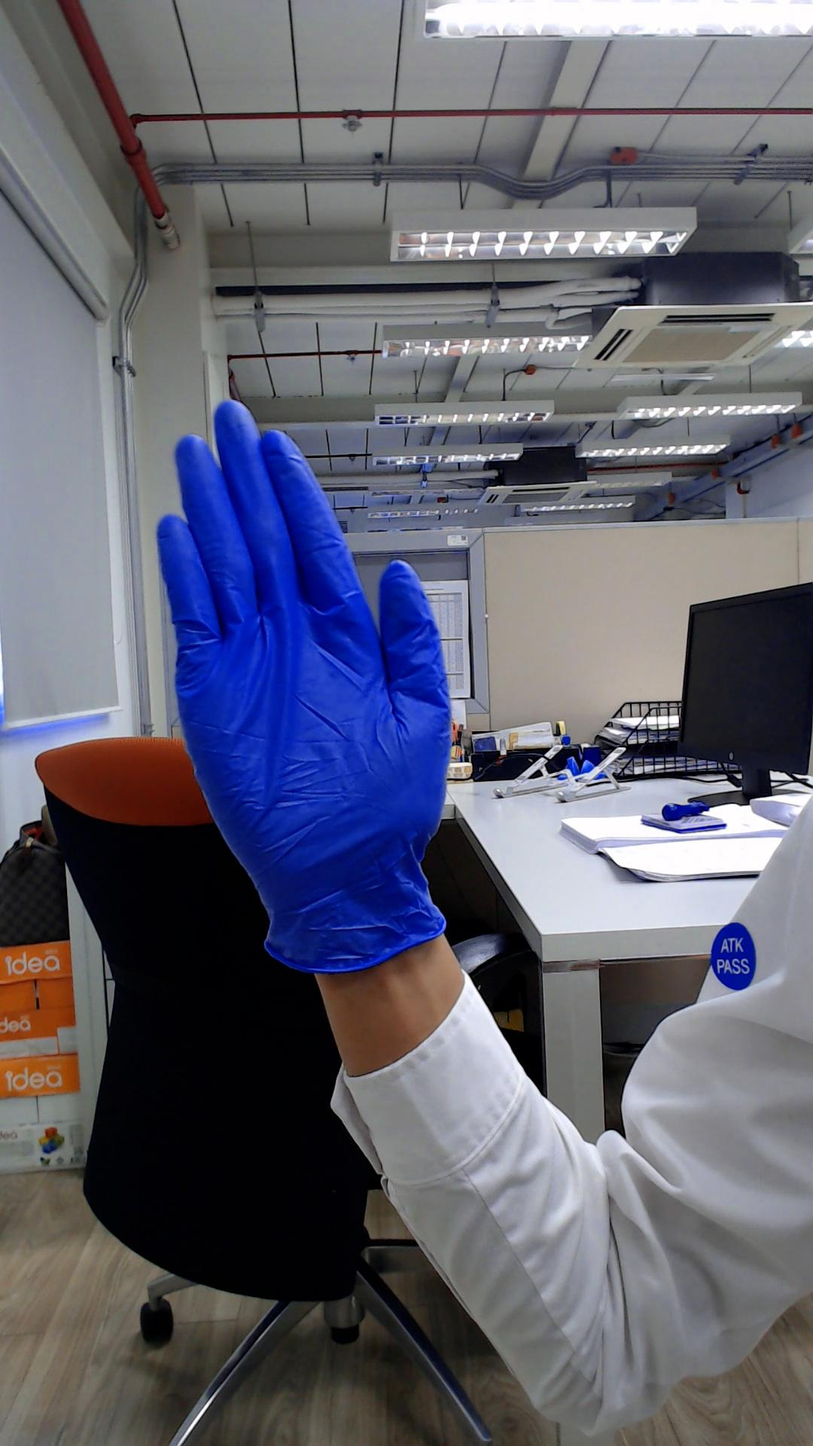gloves: (121, 349, 494, 864)
